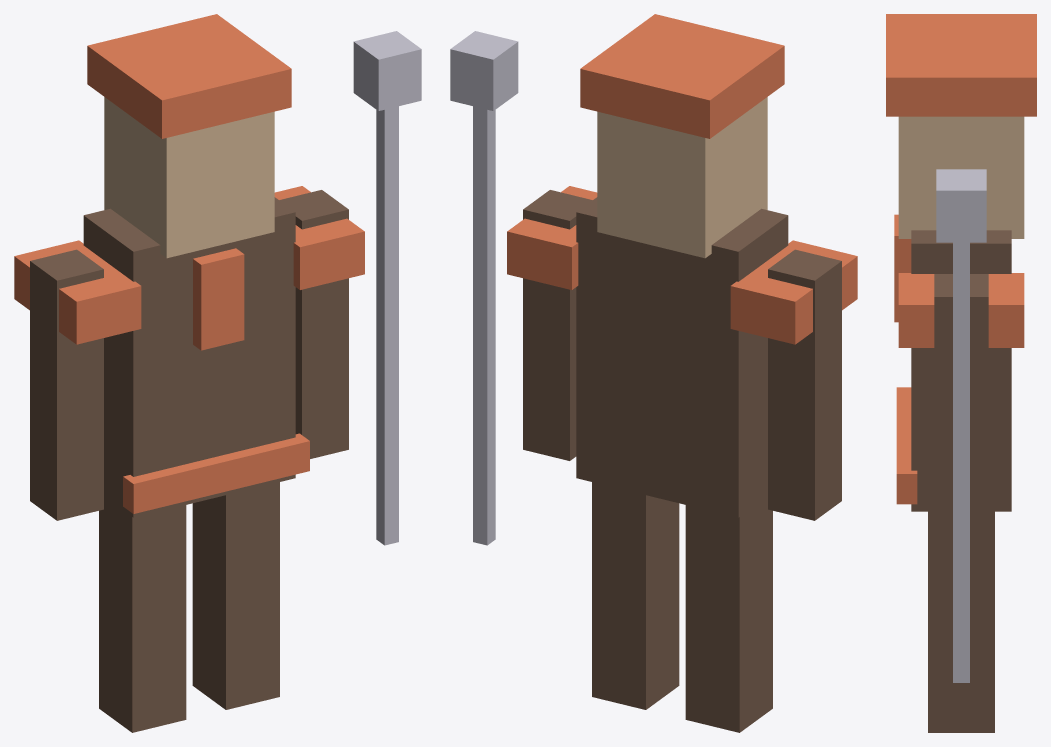
Rendered from 19_eryk_gravesong_medic_at_deep.glb.
The picture shows the model from 3 angles, left to right: view 1: azimuth 30°, elevation 25°; view 2: azimuth 150°, elevation 25°; view 3: azimuth 270°, elevation 25°; orthographic projection.
Visible parts, largest first — view 1: Eryk Gravesong, Medic at Deep; view 2: Eryk Gravesong, Medic at Deep; view 3: Eryk Gravesong, Medic at Deep.
Boxes of the visible parts, <box> form: Eryk Gravesong, Medic at Deep: <box>14,14,421,732</box>; Eryk Gravesong, Medic at Deep: <box>450,14,857,732</box>; Eryk Gravesong, Medic at Deep: <box>886,14,1036,732</box>.
Size of the model in its own units: 1.01 by 1.7 by 0.3576.
